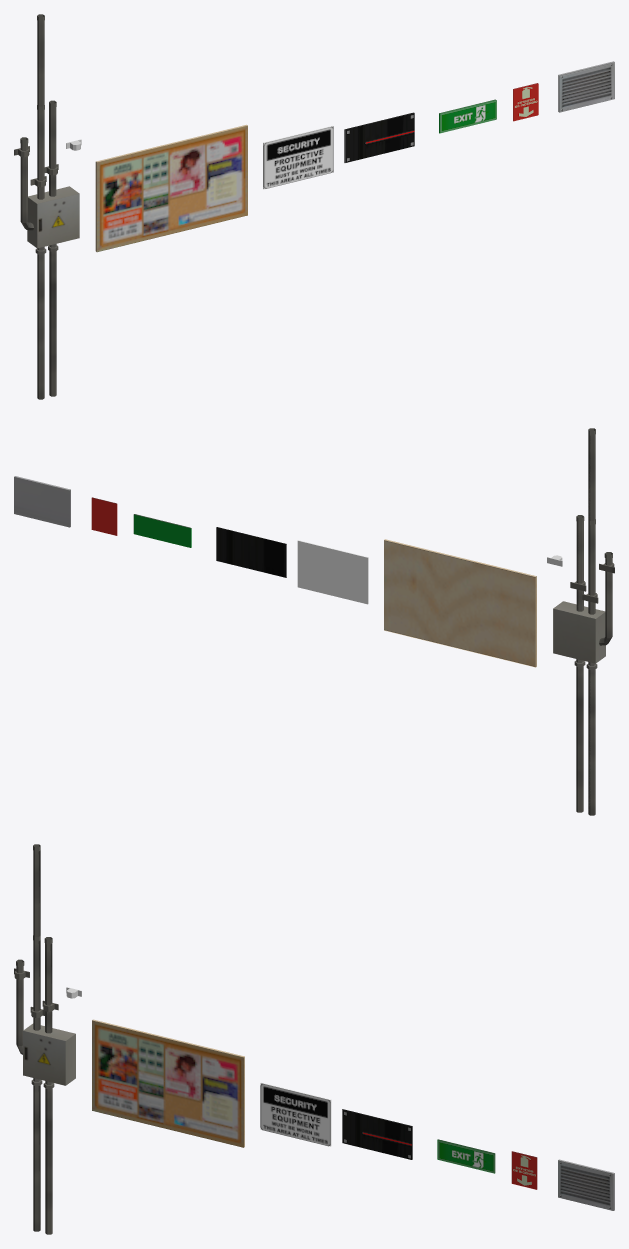
The model's file is PropsCorredorAGN.fbx.
3 views of the same model, one above another, from view 1: azimuth 30°, elevation 25°; view 2: azimuth 150°, elevation 25°; view 3: azimuth 330°, elevation 25° (orthographic).
Parts seen in each view (by area): view 1: QuadroDeAvisos, Cylinder, AvisoDeSegurança, QuadroEletrico, PlacaDoCorredor, SaidaDeCalor, PlacaDeSaida, PlacaDeExtintor, Cylinder.001; view 2: QuadroDeAvisos, Cylinder, AvisoDeSegurança, QuadroEletrico, PlacaDoCorredor, SaidaDeCalor, PlacaDeSaida, PlacaDeExtintor, Cylinder.001; view 3: QuadroDeAvisos, Cylinder, AvisoDeSegurança, QuadroEletrico, PlacaDoCorredor, SaidaDeCalor, PlacaDeSaida, PlacaDeExtintor, Cylinder.001.
Boxes of the visible parts, left/top/right/bottom form: QuadroDeAvisos: left=95, top=124, right=247, bottom=252; Cylinder: left=14, top=100, right=58, bottom=399; AvisoDeSegurança: left=263, top=125, right=333, bottom=189; QuadroEletrico: left=27, top=186, right=79, bottom=248; PlacaDoCorredor: left=344, top=112, right=414, bottom=162; SaidaDeCalor: left=558, top=61, right=614, bottom=112; PlacaDeSaida: left=439, top=99, right=496, bottom=133; PlacaDeExtintor: left=513, top=83, right=538, bottom=121; Cylinder.001: left=37, top=14, right=44, bottom=106; QuadroDeAvisos: left=384, top=539, right=536, bottom=667; Cylinder: left=570, top=515, right=614, bottom=815; AvisoDeSegurança: left=297, top=540, right=368, bottom=604; QuadroEletrico: left=553, top=601, right=605, bottom=663; PlacaDoCorredor: left=216, top=527, right=286, bottom=577; SaidaDeCalor: left=14, top=476, right=70, bottom=527; PlacaDeSaida: left=133, top=514, right=191, bottom=547; PlacaDeExtintor: left=91, top=497, right=117, bottom=535; Cylinder.001: left=588, top=428, right=595, bottom=520; QuadroDeAvisos: left=92, top=1019, right=244, bottom=1147; Cylinder: left=14, top=935, right=58, bottom=1234; AvisoDeSegurança: left=260, top=1082, right=331, bottom=1146; QuadroEletrico: left=23, top=1023, right=75, bottom=1085; PlacaDoCorredor: left=342, top=1109, right=412, bottom=1159; SaidaDeCalor: left=558, top=1159, right=614, bottom=1210; PlacaDeSaida: left=437, top=1139, right=495, bottom=1173; PlacaDeExtintor: left=511, top=1151, right=537, bottom=1189; Cylinder.001: left=33, top=844, right=40, bottom=936.
Size of the model in its own units: 2818 by 1722 by 82.49.
